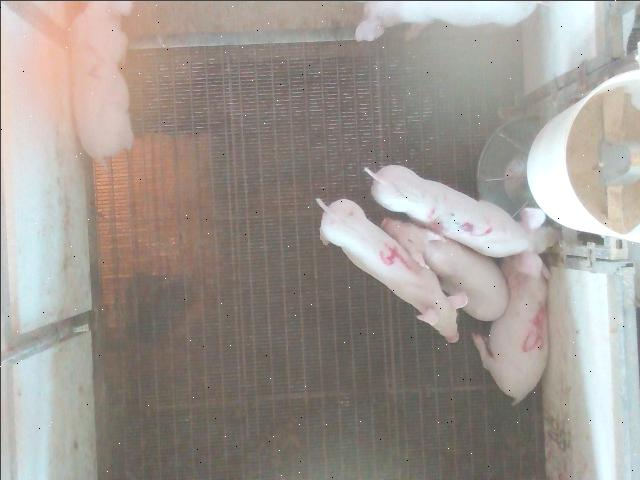pig-1: (354, 0, 536, 40)
pig-2: (69, 1, 132, 158)
pig-3: (364, 164, 555, 278)
pig-4: (316, 198, 466, 341)
pig-5: (472, 264, 546, 404)
